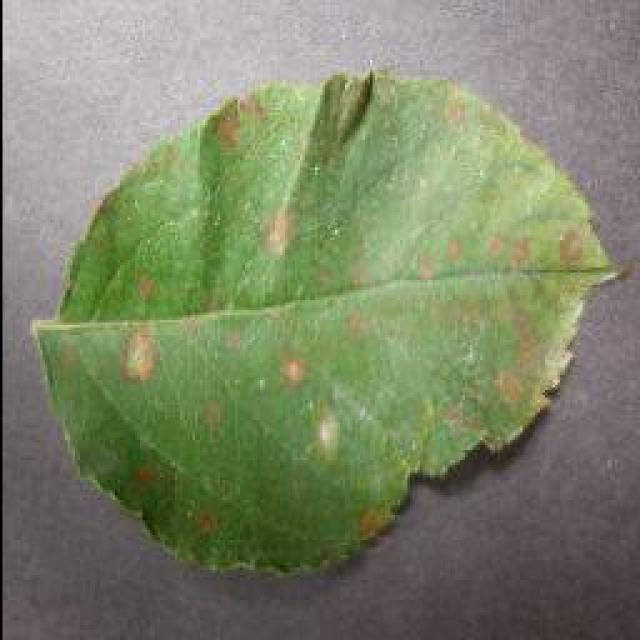apple cedar apple rust: (27, 65, 625, 580)
